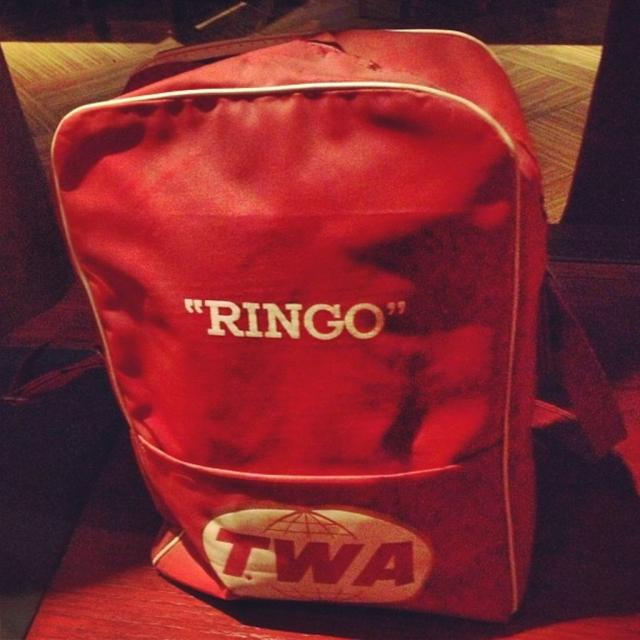backpack: (59, 29, 549, 624)
